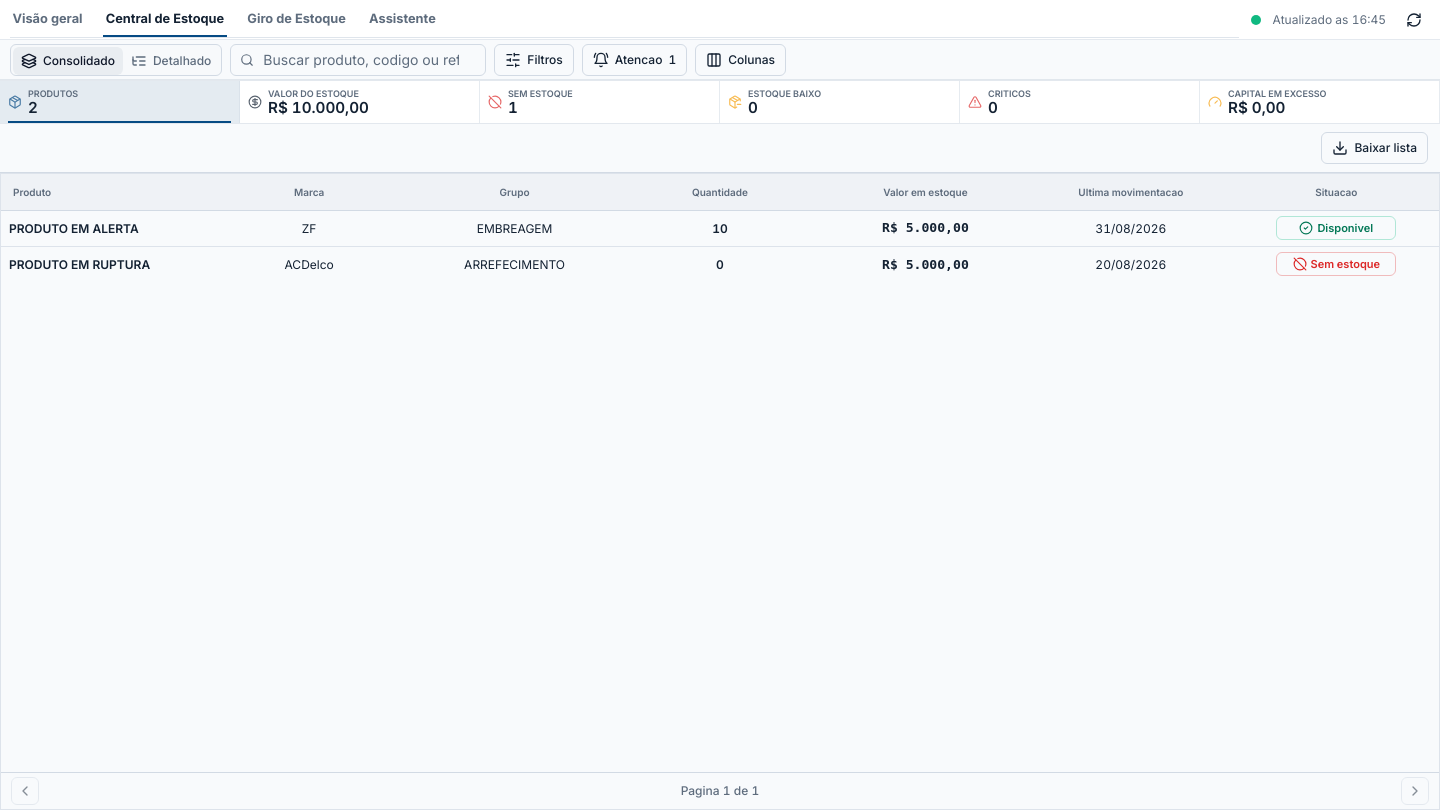
Test: EstoquePage › sincroniza filtro de status acionado pelo KPI com controles pendentes, aplicar e limpar
The width and height of the screenshot is (1440, 810).
Later steps or results of the test are not shown.
Click the tab "Giro de Estoque": [297, 19] box [245,1,348,37]
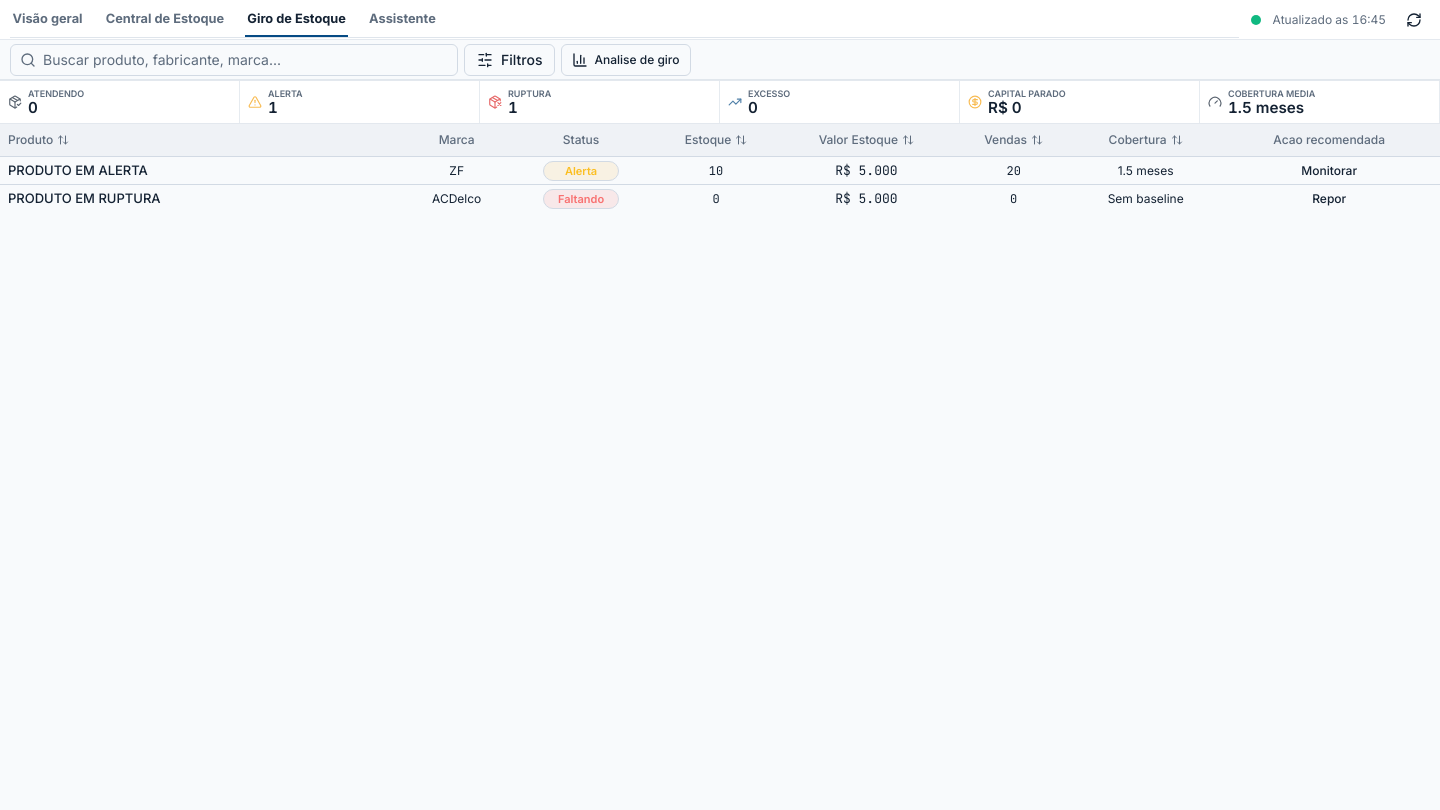
Click the button with aria-label "Alerta: 1": [360, 102] box [240,81,480,123]
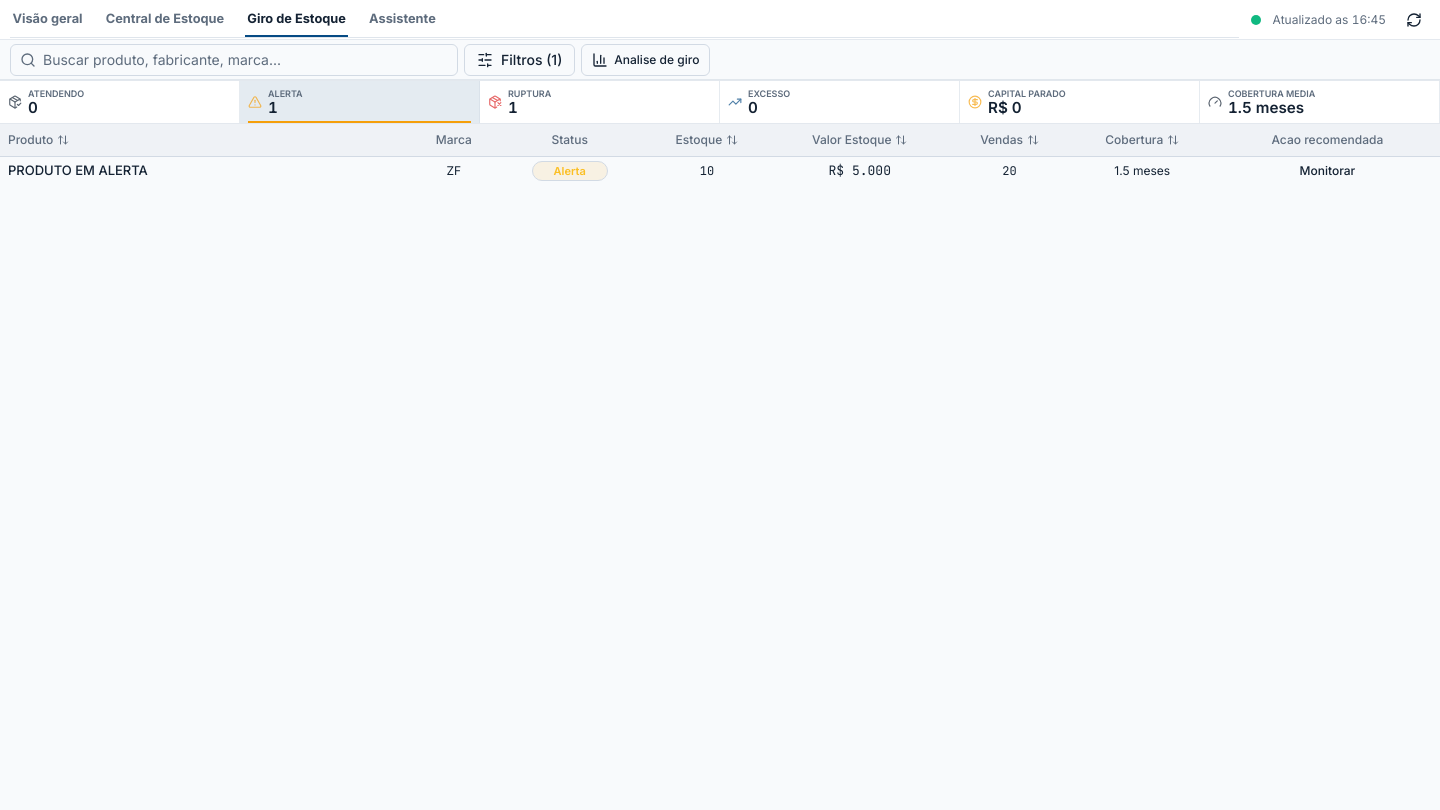
Expected: the text "PRODUTO EM ALERTA" is shown, [8,164,148,177]
Result: the button "Filtros (1)" is shown at [464,44,575,76]
Result: the text "PRODUTO EM RUPTURA" is gone
